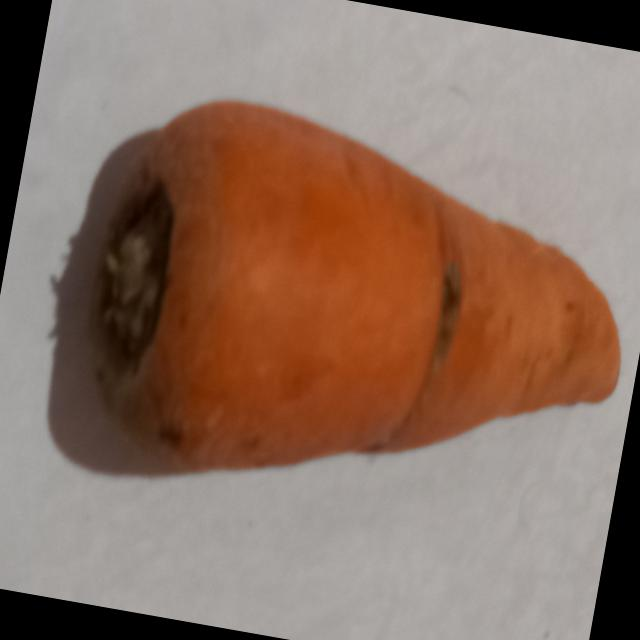carrot: (92, 102, 619, 472)
